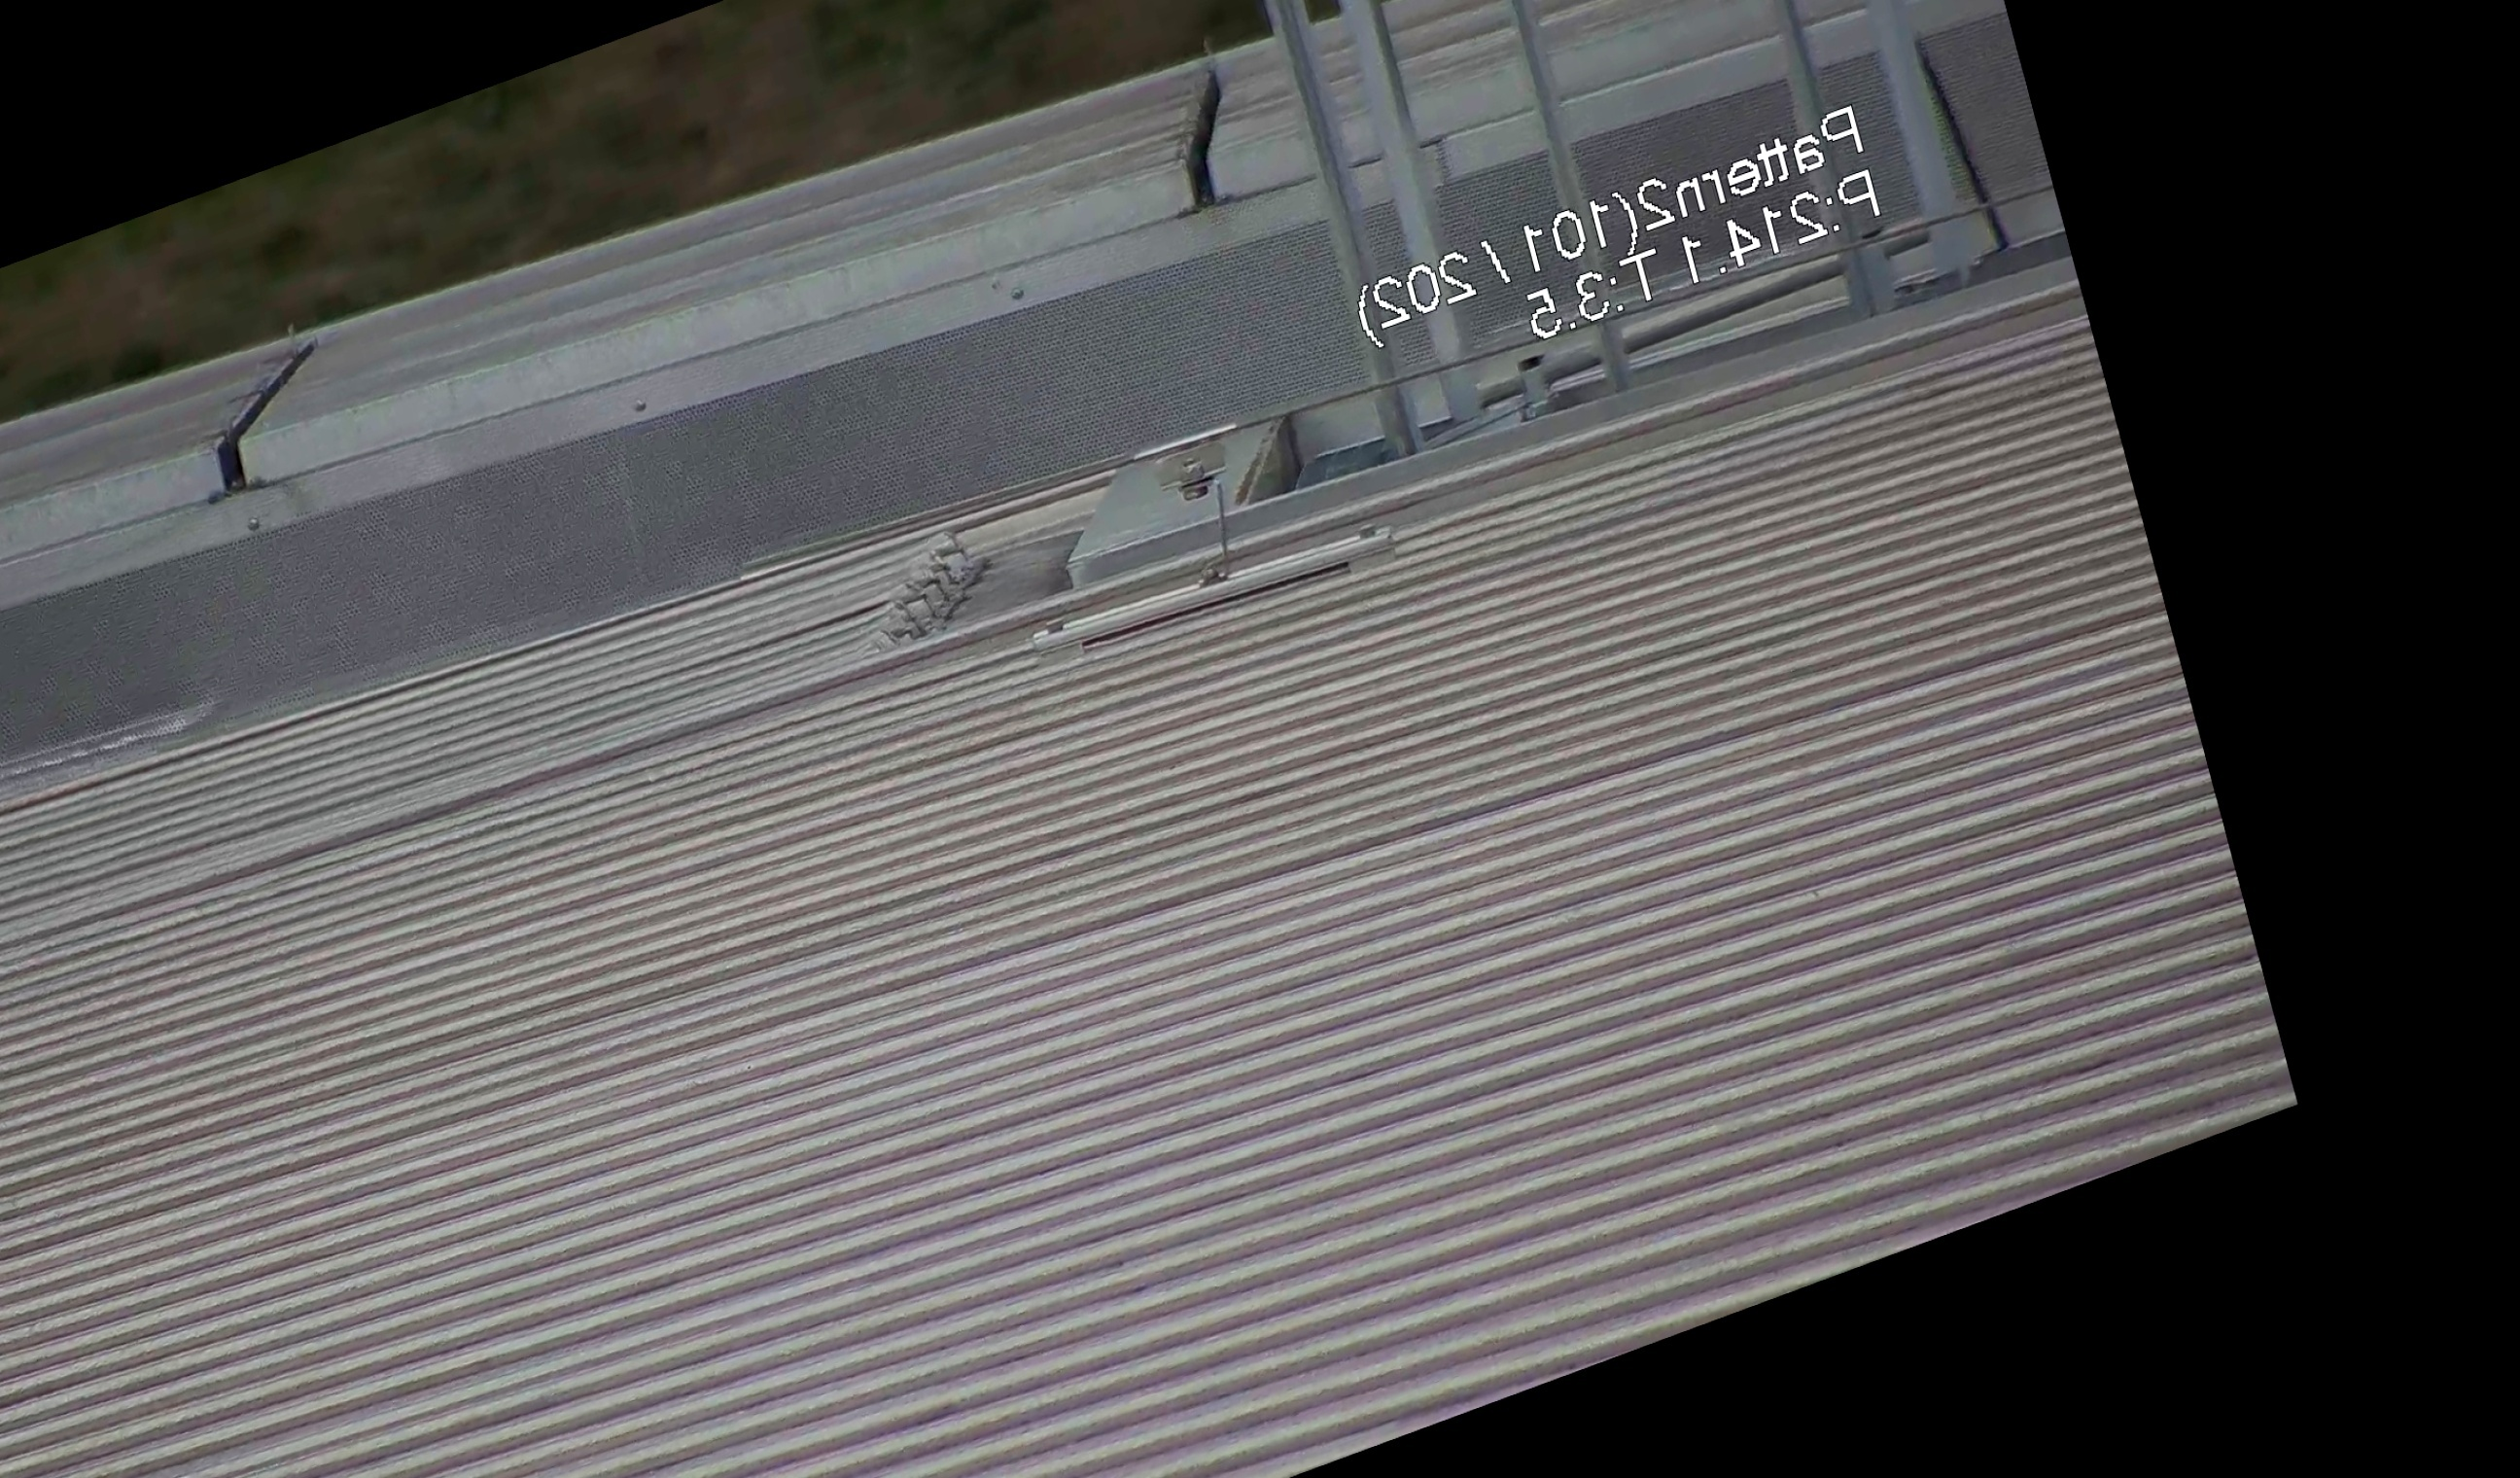Other: (1140, 30, 1285, 227)
